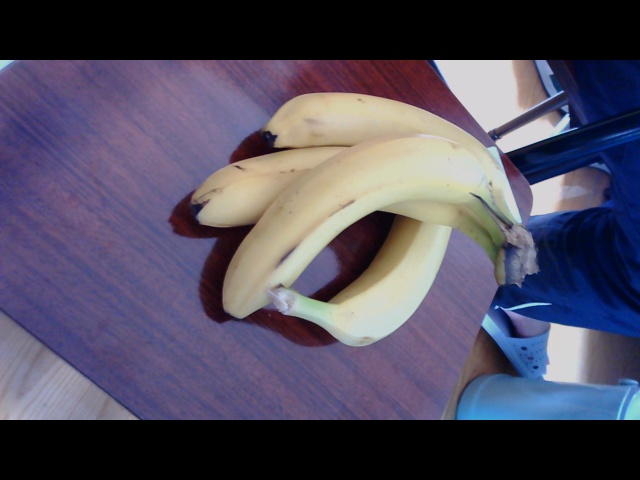banana: (195, 84, 532, 359)
